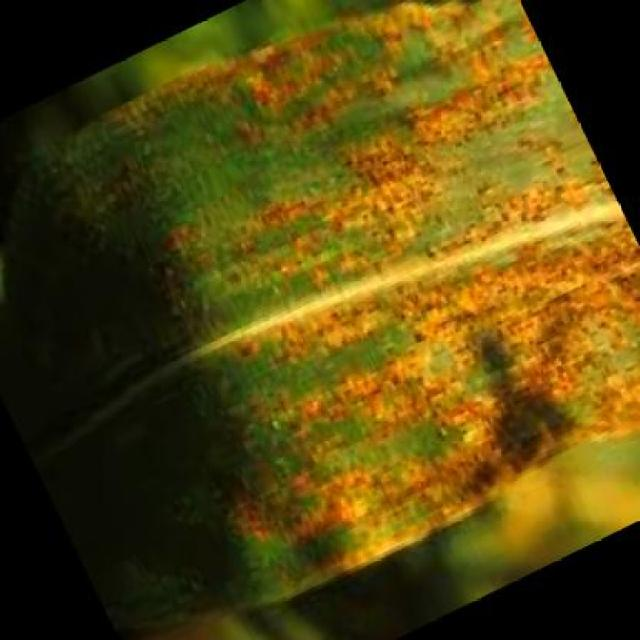Corn_Rust: (88, 54, 552, 563)
